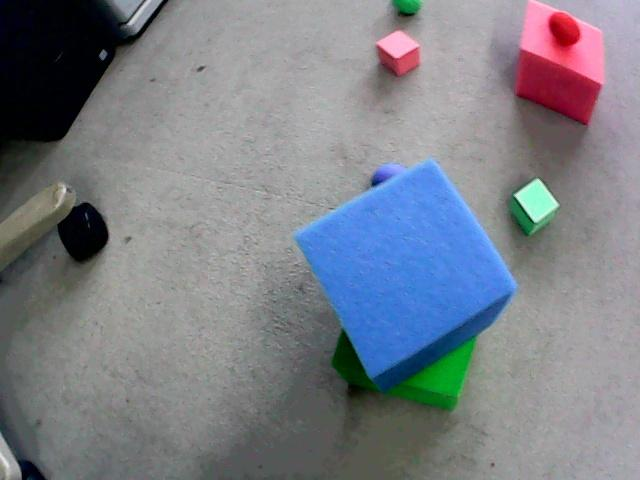blue_block: (295, 160, 516, 390), (19, 461, 45, 479)
red_block: (515, 0, 604, 123), (376, 30, 419, 75)
